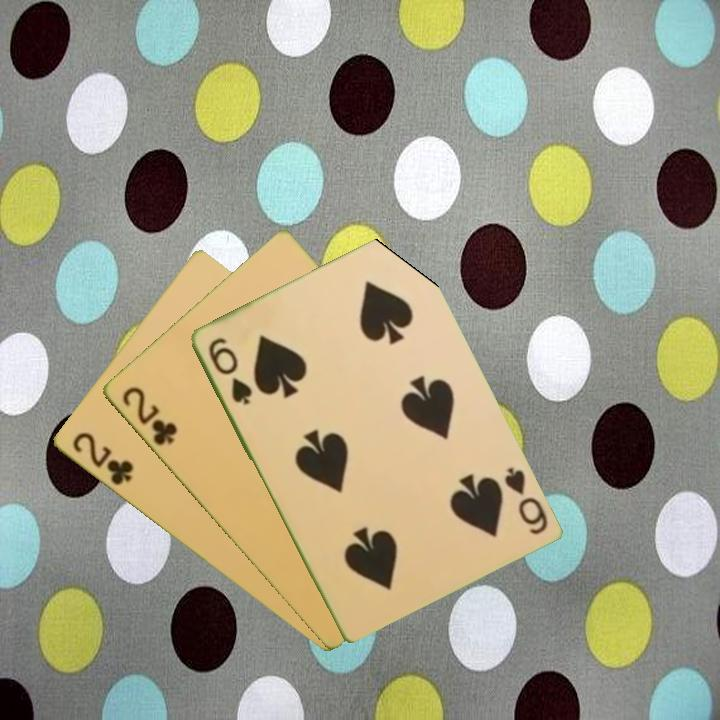2c: (118, 382, 180, 449), (68, 428, 136, 489)
6s: (204, 333, 255, 408), (500, 463, 551, 538)
